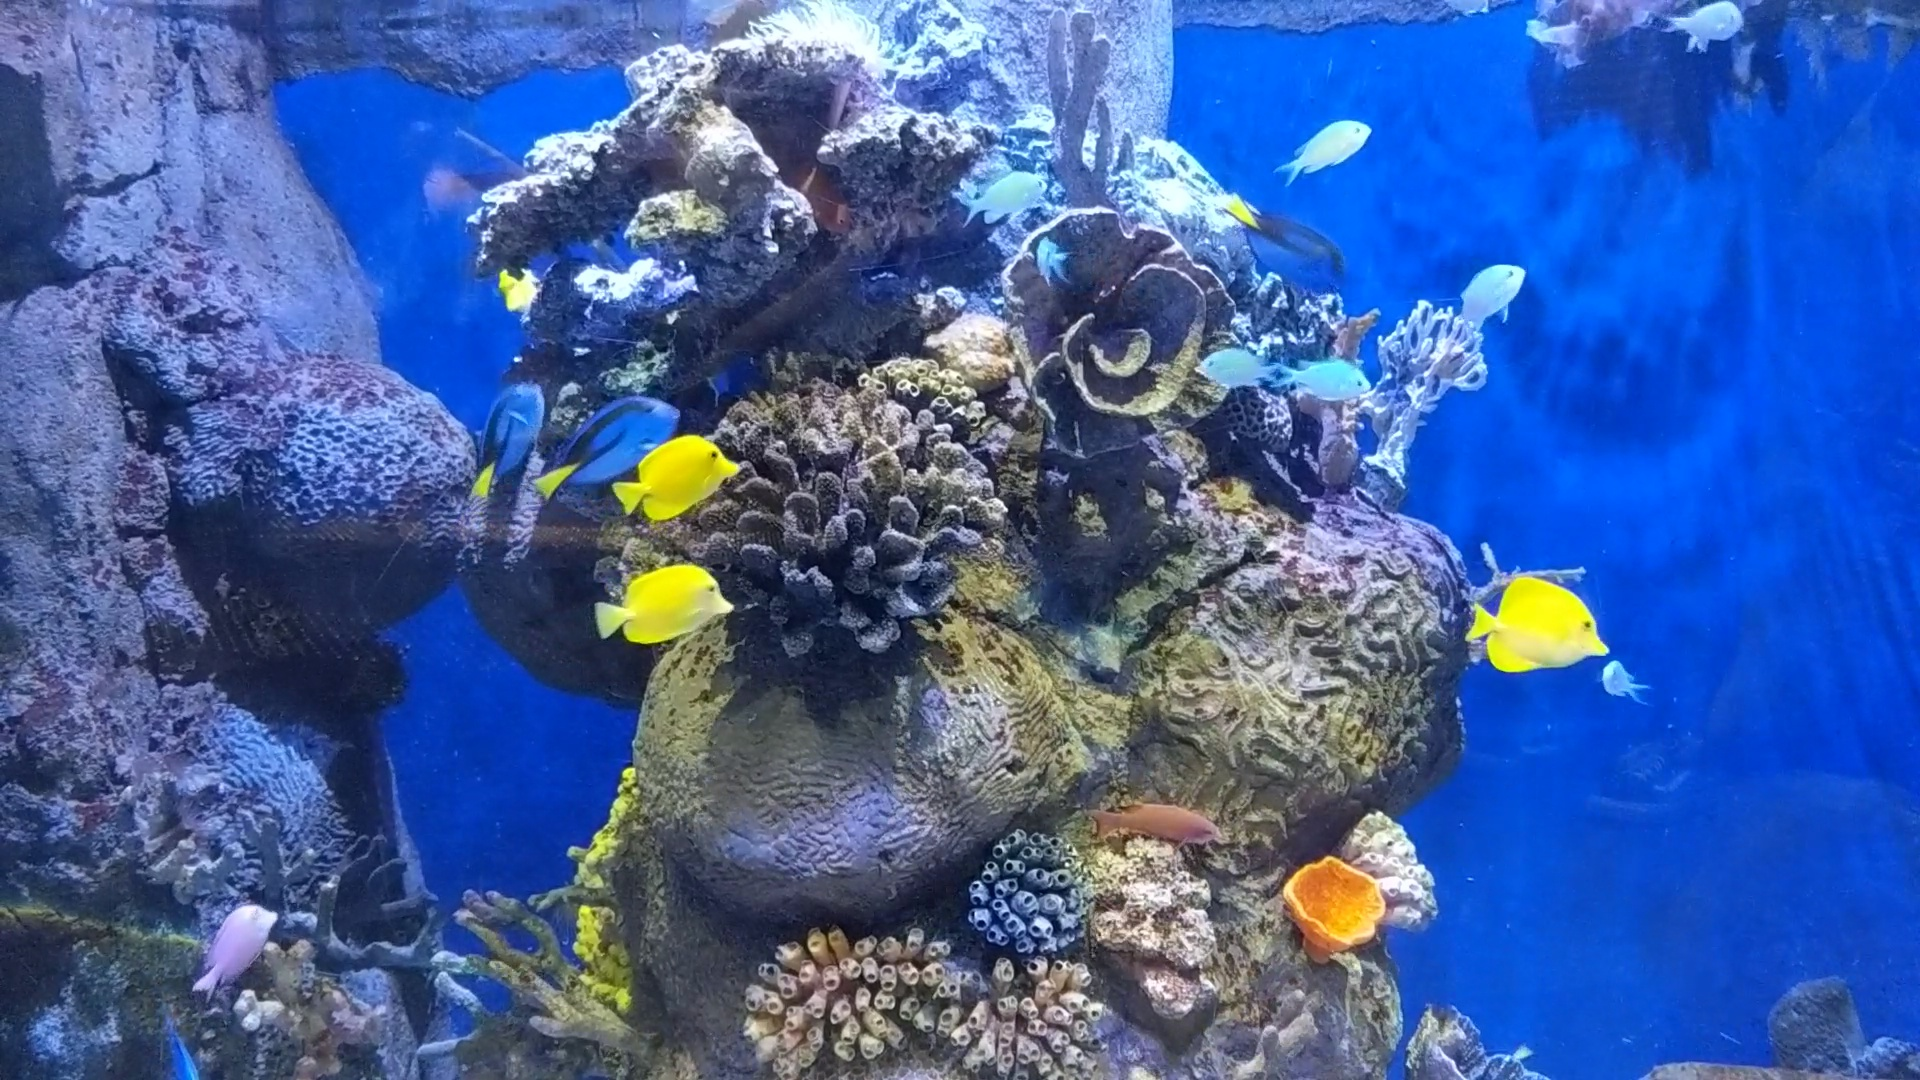damselfish: (1280, 113, 1379, 185), (1449, 257, 1540, 334), (949, 165, 1054, 225), (1275, 353, 1374, 407), (1652, 0, 1746, 53), (1185, 343, 1276, 392), (1030, 233, 1083, 303), (1604, 657, 1655, 713)
saddle butterfly fish: (525, 389, 682, 508), (1211, 185, 1360, 305), (1462, 571, 1610, 678), (611, 433, 742, 525), (591, 560, 731, 646), (473, 376, 553, 506), (154, 1009, 211, 1080), (491, 264, 554, 324)
